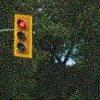traffic lights: (14, 12, 32, 60)
